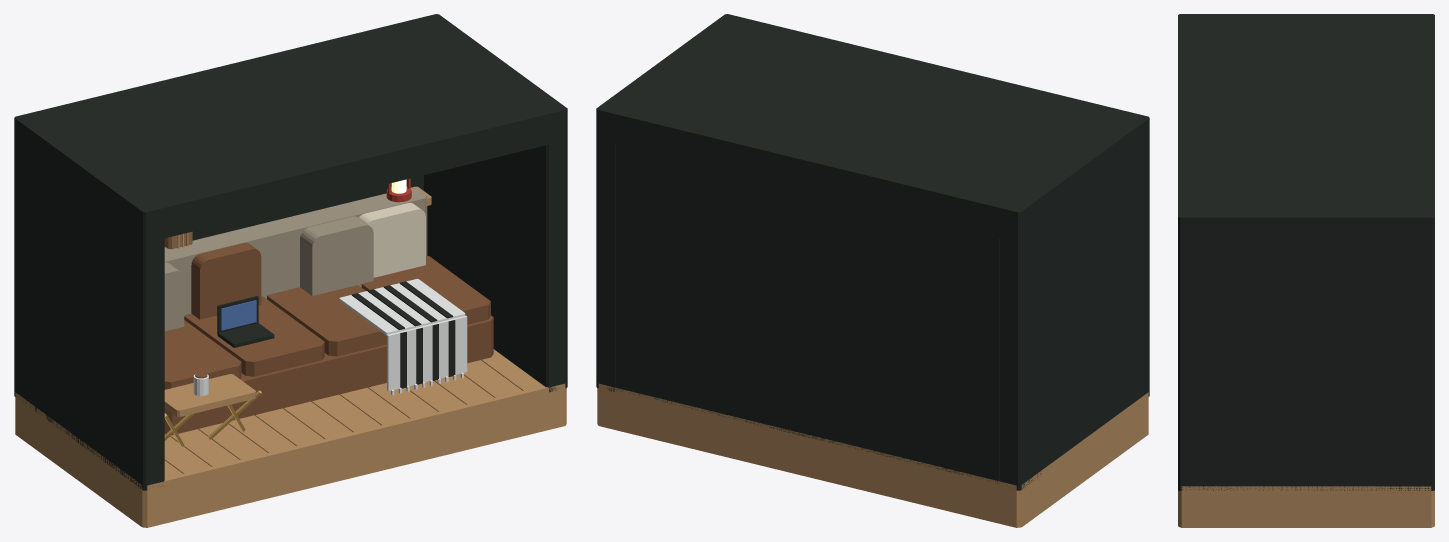
File: gh_recessed_lounge_v01.glb
The picture shows the model from 3 angles, left to right: view 1: azimuth 30°, elevation 25°; view 2: azimuth 150°, elevation 25°; view 3: azimuth 270°, elevation 25°; orthographic projection.
Visible parts, largest first — view 1: Dark framed raised work nook palette, Couch cushions and work details fabric, Couch cushions and work details palette; view 2: Dark framed raised work nook palette; view 3: Dark framed raised work nook palette.
Part boxes in pixels (left/top/right/bottom): Dark framed raised work nook palette: left=14, top=14, right=567, bottom=527; Couch cushions and work details fabric: left=164, top=187, right=493, bottom=435; Couch cushions and work details palette: left=164, top=178, right=431, bottom=446; Dark framed raised work nook palette: left=596, top=14, right=1149, bottom=527; Dark framed raised work nook palette: left=1178, top=14, right=1434, bottom=527.
Bounding box in the file's own units: 4.5 × 3.2 × 2.4.
3 materials, 3 textured.
